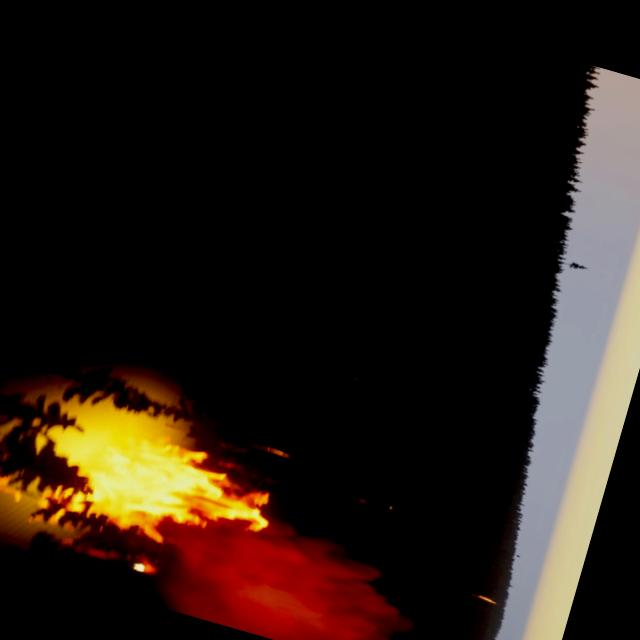fire: (68, 419, 287, 565)
smoke: (168, 507, 466, 640)
